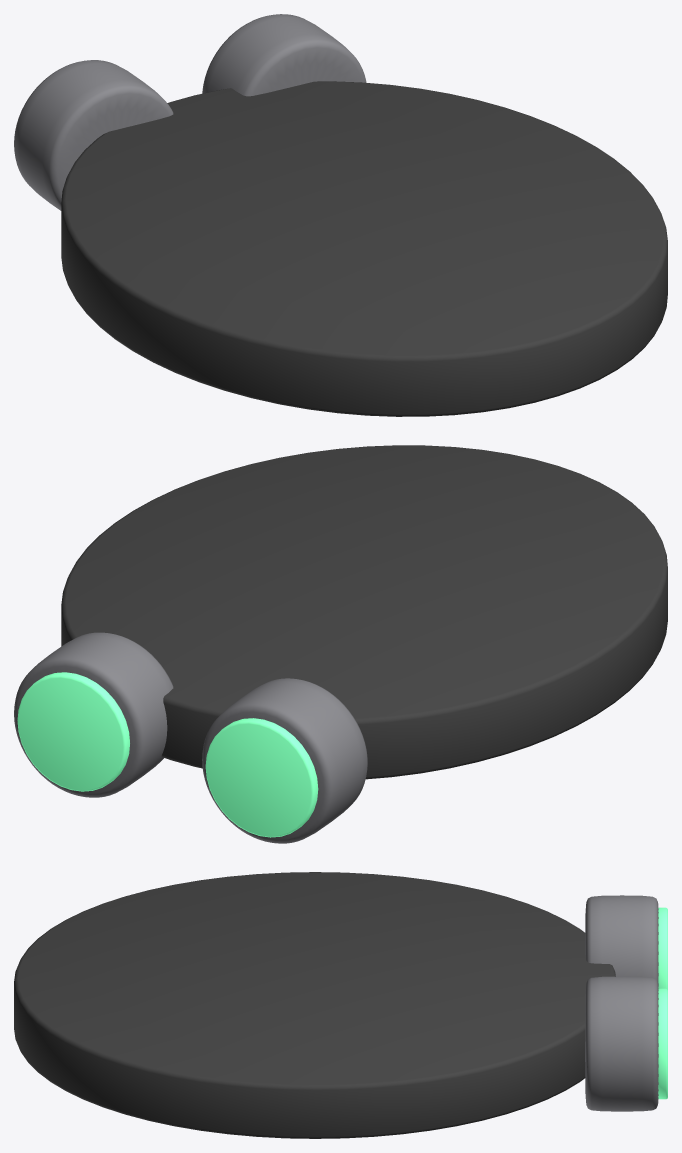
The model's file is hat_goggles.glb.
3 renders of one model, top to bottom at view 1: azimuth 30°, elevation 25°; view 2: azimuth 150°, elevation 25°; view 3: azimuth 270°, elevation 25°, orthographic. The views are drawn at different scales.
Visible parts, largest first — view 1: goggles; view 2: goggles; view 3: goggles.
Part boxes in pixels (x1,y1,x2,y2): goggles: (14,14,667,416); goggles: (14,445,667,843); goggles: (14,872,667,1138).
Size of the model in its own units: 0.24 by 0.0635 by 0.3069.
